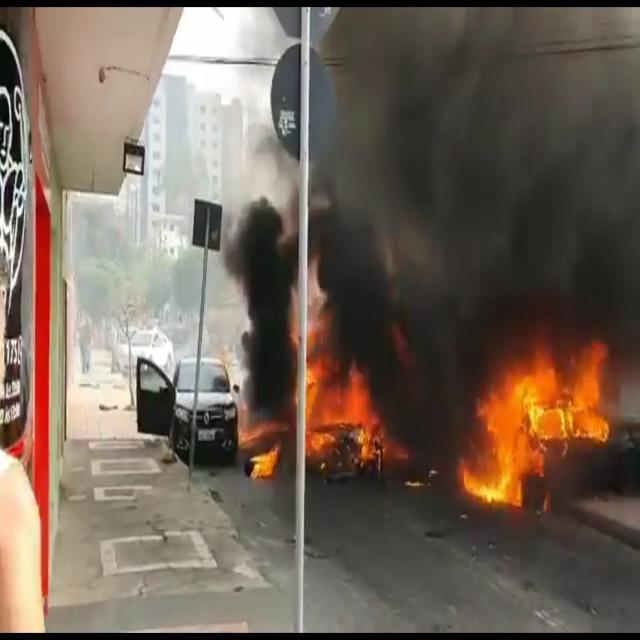Fire: (463, 341, 610, 515), (306, 332, 380, 472), (244, 410, 289, 478)
Smoke: (310, 3, 640, 320), (226, 194, 298, 400), (383, 324, 458, 444)
